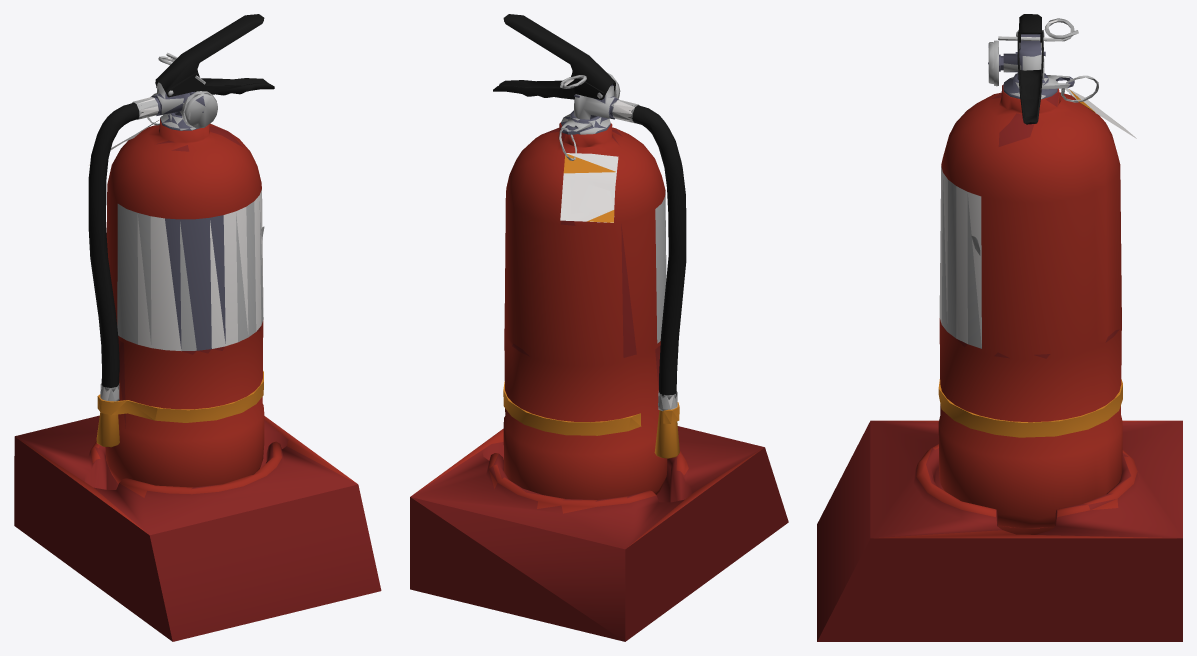
The model's file is korean-fire-extinguisher.glb.
3 renders of one model, left to right at view 1: azimuth 30°, elevation 25°; view 2: azimuth 150°, elevation 25°; view 3: azimuth 270°, elevation 25°, orthographic. The views are drawn at different scales.
Visible parts, largest first — view 1: korean-fire-extinguisher; view 2: korean-fire-extinguisher; view 3: korean-fire-extinguisher.
Part boxes in pixels (box(x1,y1,x2,y2)): korean-fire-extinguisher: box(14, 14, 381, 641); korean-fire-extinguisher: box(410, 14, 788, 641); korean-fire-extinguisher: box(817, 14, 1182, 641).
Size of the model in its own units: 0.2795 by 0.6592 by 0.3674.
